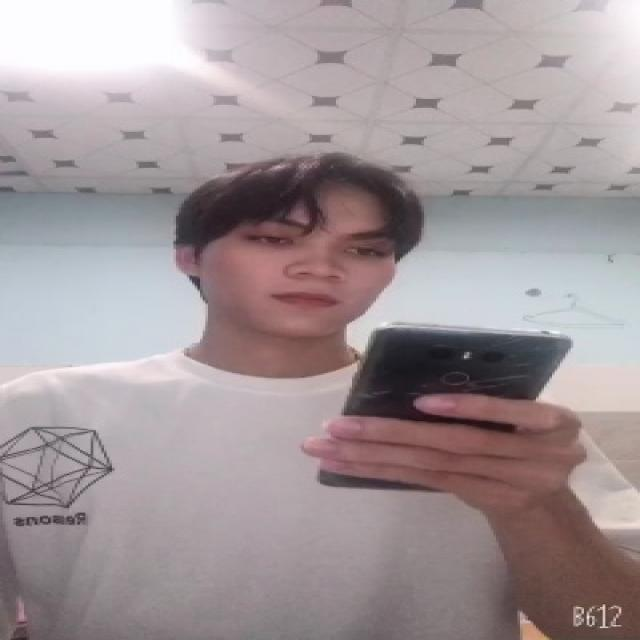Phone: (316, 320, 577, 493)
